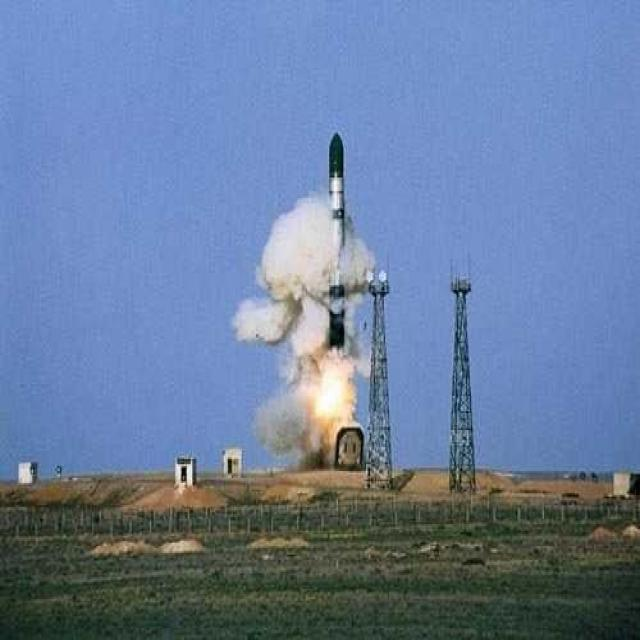missile: (319, 129, 351, 373)
